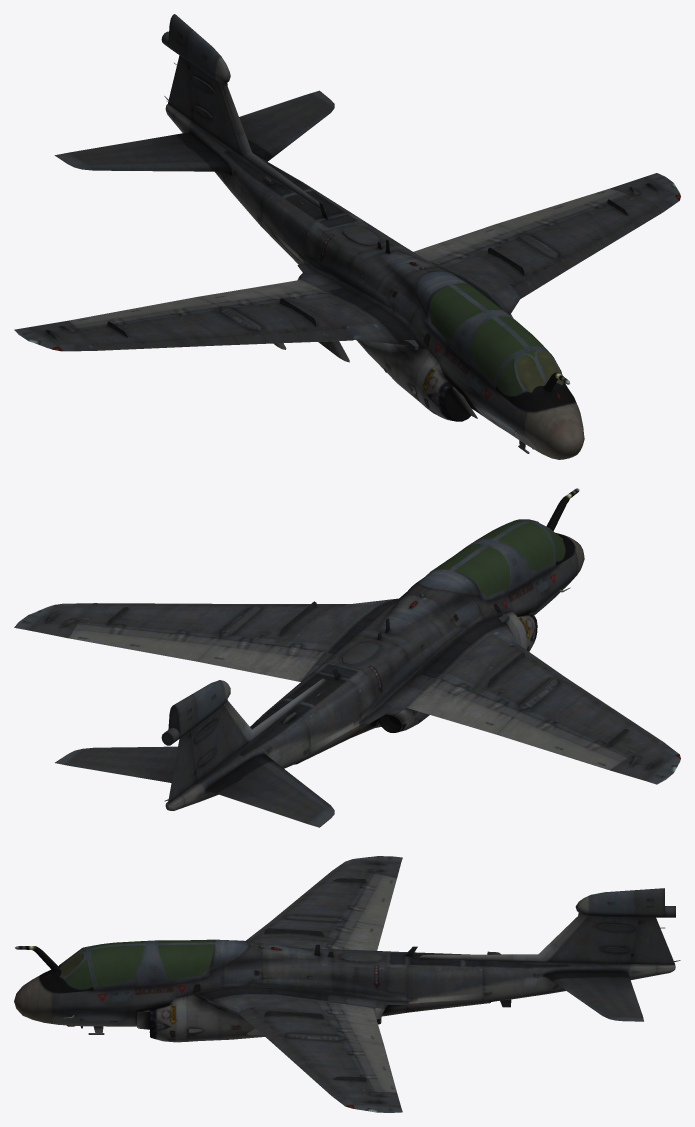
The model's file is EA-6B_Prowler3.obj.
The picture shows the model from 3 angles, top to bottom: view 1: azimuth 30°, elevation 25°; view 2: azimuth 150°, elevation 25°; view 3: azimuth 270°, elevation 25°; orthographic projection. The views are drawn at different scales.
Visible parts, largest first — view 1: LOD0, ElevatorR01, ElevatorL01, Glass_Canopy01, Glass_Canopy02, Glass01, VoletR01, FlapL01, FlapR01, AileronL01, AileronR01, VoletR02 (+6 smaller); view 2: LOD0, ElevatorR01, ElevatorL01, FlapL01, FlapR01, AileronL01, AileronR01, Glass_Canopy02, Glass_Canopy01, RudderL01, BrakeL03, BrakeR03 (+6 smaller); view 3: LOD0, ElevatorL01, Glass_Canopy01, Glass_Canopy02, RudderL01, FlapL01, AileronR01, AileronL01, Glass01, FlapR01, VoletL01, Canopy01 (+6 smaller).
Part boxes in pixels (bbox=[...]): LOD0: bbox=[14, 14, 680, 459]; ElevatorR01: bbox=[54, 132, 227, 171]; ElevatorL01: bbox=[239, 90, 334, 161]; Glass_Canopy01: bbox=[471, 317, 545, 382]; Glass_Canopy02: bbox=[428, 284, 503, 342]; Glass01: bbox=[496, 350, 564, 396]; VoletR01: bbox=[93, 334, 267, 350]; FlapL01: bbox=[413, 224, 512, 261]; FlapR01: bbox=[198, 279, 319, 303]; AileronL01: bbox=[497, 188, 620, 230]; AileronR01: bbox=[69, 297, 213, 325]; VoletR02: bbox=[262, 327, 354, 343]; LOD0: bbox=[14, 488, 680, 810]; ElevatorR01: bbox=[206, 755, 334, 827]; ElevatorL01: bbox=[55, 746, 177, 782]; FlapL01: bbox=[198, 644, 319, 681]; FlapR01: bbox=[406, 686, 512, 734]; AileronL01: bbox=[69, 628, 213, 661]; AileronR01: bbox=[497, 718, 620, 770]; Glass_Canopy02: bbox=[433, 544, 509, 596]; Glass_Canopy01: bbox=[478, 520, 552, 570]; RudderL01: bbox=[164, 731, 197, 803]; BrakeL03: bbox=[75, 623, 220, 644]; BrakeR03: bbox=[513, 711, 628, 761]; LOD0: bbox=[14, 856, 675, 1112]; ElevatorL01: bbox=[546, 972, 643, 1021]; Glass_Canopy01: bbox=[90, 941, 143, 986]; Glass_Canopy02: bbox=[158, 939, 213, 979]; RudderL01: bbox=[630, 917, 680, 964]; FlapL01: bbox=[338, 1003, 383, 1044]; AileronR01: bbox=[357, 875, 396, 925]; AileronL01: bbox=[357, 1040, 396, 1092]; Glass01: bbox=[59, 947, 93, 989]; FlapR01: bbox=[343, 922, 383, 950]; VoletL01: bbox=[270, 1036, 337, 1095]; Canopy01: bbox=[89, 941, 147, 989].
Size of the model in its own units: 16.12 by 4.3 by 17.71.
3 materials, 3 textured.
